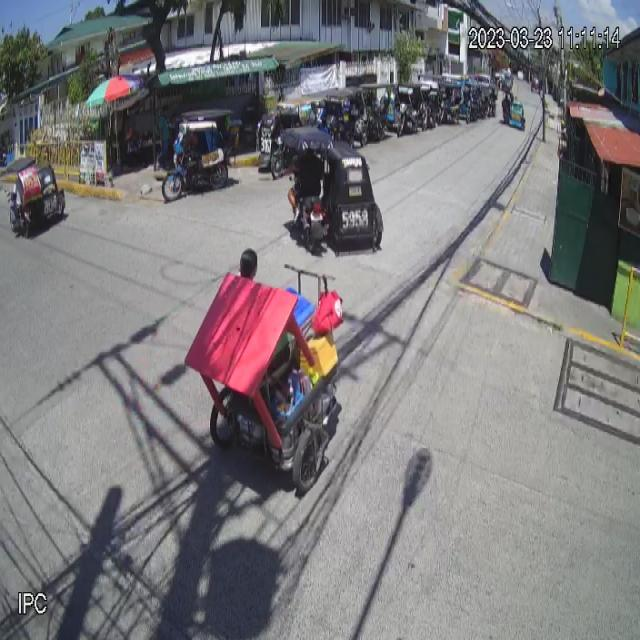Tricycle: (279, 125, 383, 254), (162, 108, 238, 202), (5, 156, 68, 237)
